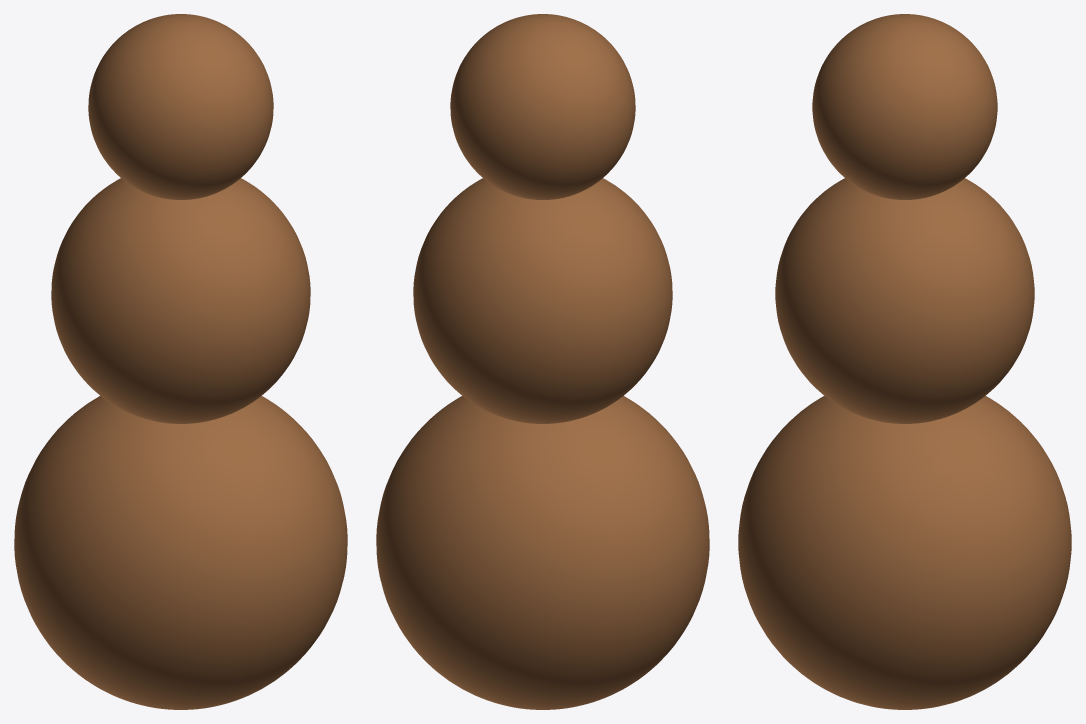
File: escultura-esferas.glb
3 views of the same model, side by side, from view 1: azimuth 30°, elevation 25°; view 2: azimuth 150°, elevation 25°; view 3: azimuth 270°, elevation 25° (orthographic).
Visible parts, largest first — view 1: escultura-esferas; view 2: escultura-esferas; view 3: escultura-esferas.
Boxes of the visible parts, <box> form: escultura-esferas: <box>14,14,347,709</box>; escultura-esferas: <box>376,14,709,709</box>; escultura-esferas: <box>738,14,1071,709</box>.
Size of the model in its own units: 0.18 by 0.4 by 0.18.
